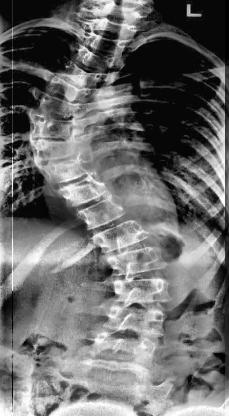Vertebrae: (91, 217, 156, 253), (108, 245, 176, 276), (90, 334, 160, 364), (74, 198, 128, 230), (56, 176, 110, 208), (110, 278, 170, 304), (28, 133, 82, 161), (37, 154, 93, 180), (44, 85, 100, 111), (107, 309, 163, 333), (60, 61, 104, 91), (28, 116, 78, 142), (33, 94, 85, 119), (82, 32, 132, 56), (83, 58, 127, 82)
